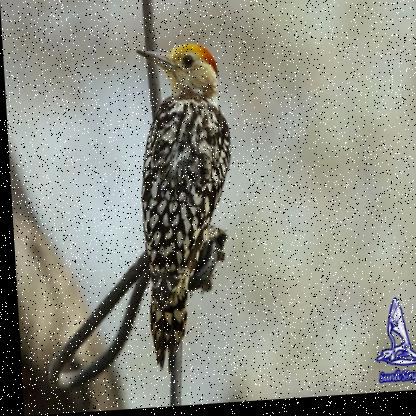Burung: (132, 42, 239, 372)
